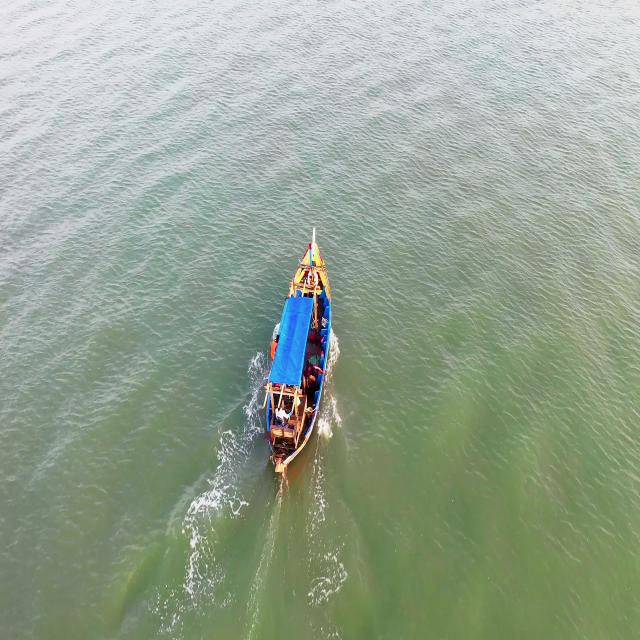ship: (266, 228, 332, 479)
